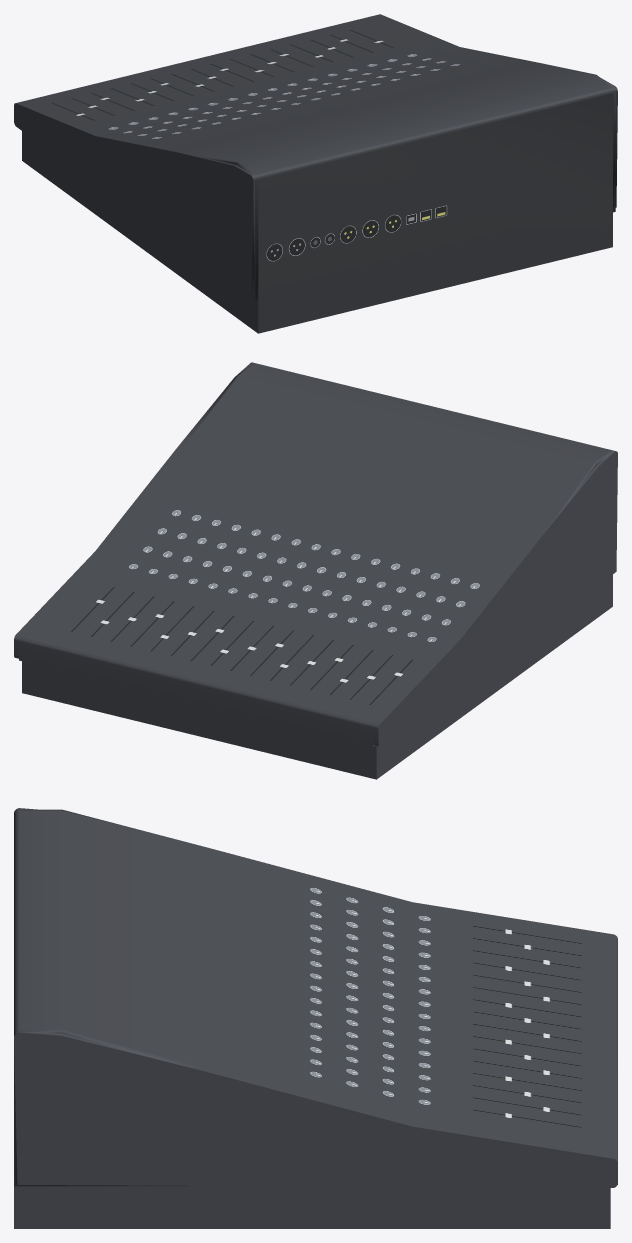
The model's file is allen-heath-qu-16.glb.
3 renders of one model, top to bottom at view 1: azimuth 30°, elevation 25°; view 2: azimuth 150°, elevation 25°; view 3: azimuth 270°, elevation 25°, orthographic. The views are drawn at different scales.
Parts seen in each view (by area): view 1: allen-heath-qu-16-body; view 2: allen-heath-qu-16-body; view 3: allen-heath-qu-16-body.
Boxes of the visible parts, x1=… form: allen-heath-qu-16-body: x1=14, y1=14, x2=617, y2=333; allen-heath-qu-16-body: x1=14, y1=362, x2=617, y2=779; allen-heath-qu-16-body: x1=14, y1=808, x2=617, y2=1228.
Bounding box in the file's own units: 0.44 × 0.186 × 0.5.
Materials: 1 (1 with a texture image).
